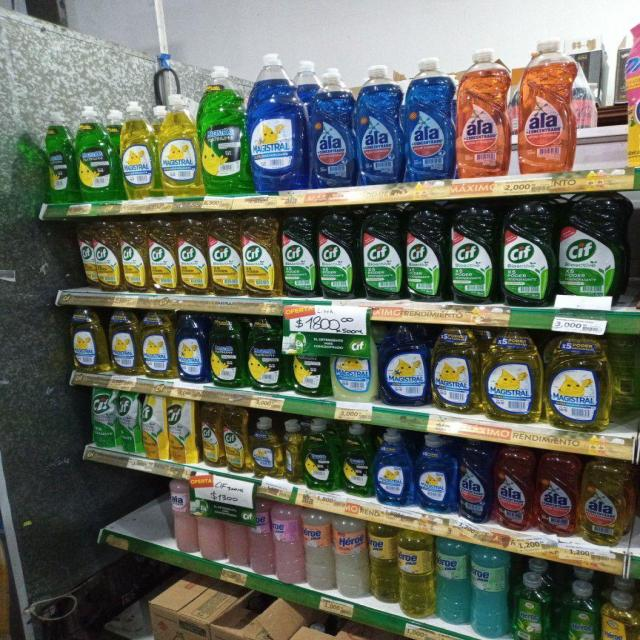ala_conc_amarillo: (579, 457, 630, 545)
ala_conc_azul: (404, 56, 454, 181), (308, 64, 356, 188), (357, 63, 403, 185), (457, 438, 493, 523)
ala_conc_rojo: (518, 38, 578, 175), (456, 48, 511, 180), (536, 450, 578, 536), (494, 444, 534, 530)
cif_conc_bot_amarilla: (242, 212, 280, 297), (209, 215, 241, 296), (178, 217, 208, 295), (148, 218, 176, 294), (121, 219, 148, 293), (223, 405, 250, 473), (95, 220, 120, 292), (199, 401, 222, 468), (78, 220, 95, 290)
cif_conc_botella_verde: (558, 194, 624, 304), (500, 198, 555, 307), (449, 201, 497, 305), (405, 203, 447, 302), (361, 206, 403, 300), (318, 209, 358, 299), (281, 212, 316, 297)
cif_conc_sachet_amarillo: (167, 396, 197, 464), (141, 393, 166, 460)
cif_conc_sachet_verde: (90, 387, 117, 449), (118, 390, 140, 454)
heroe: (470, 545, 510, 639), (398, 528, 434, 618), (436, 537, 470, 627), (334, 514, 368, 598), (511, 568, 547, 640), (272, 503, 304, 582), (303, 508, 333, 592), (555, 579, 595, 640), (369, 520, 397, 604), (601, 588, 639, 640)
magistral_con_amarillo: (546, 330, 609, 432), (483, 327, 542, 423), (432, 325, 481, 414), (158, 95, 200, 197), (120, 101, 156, 200), (70, 307, 107, 374), (142, 310, 175, 379), (109, 308, 140, 376), (251, 415, 282, 478), (283, 418, 302, 484)
magistral_con_azul: (380, 324, 429, 407), (415, 433, 455, 513), (374, 428, 413, 507), (176, 311, 208, 383)
magistral_con_crema: (332, 323, 378, 403)
magistral_con_verde: (199, 62, 253, 194), (74, 106, 117, 202), (42, 114, 79, 204), (243, 316, 285, 392), (205, 308, 244, 386), (334, 425, 373, 495), (302, 420, 331, 490), (289, 354, 327, 397)
